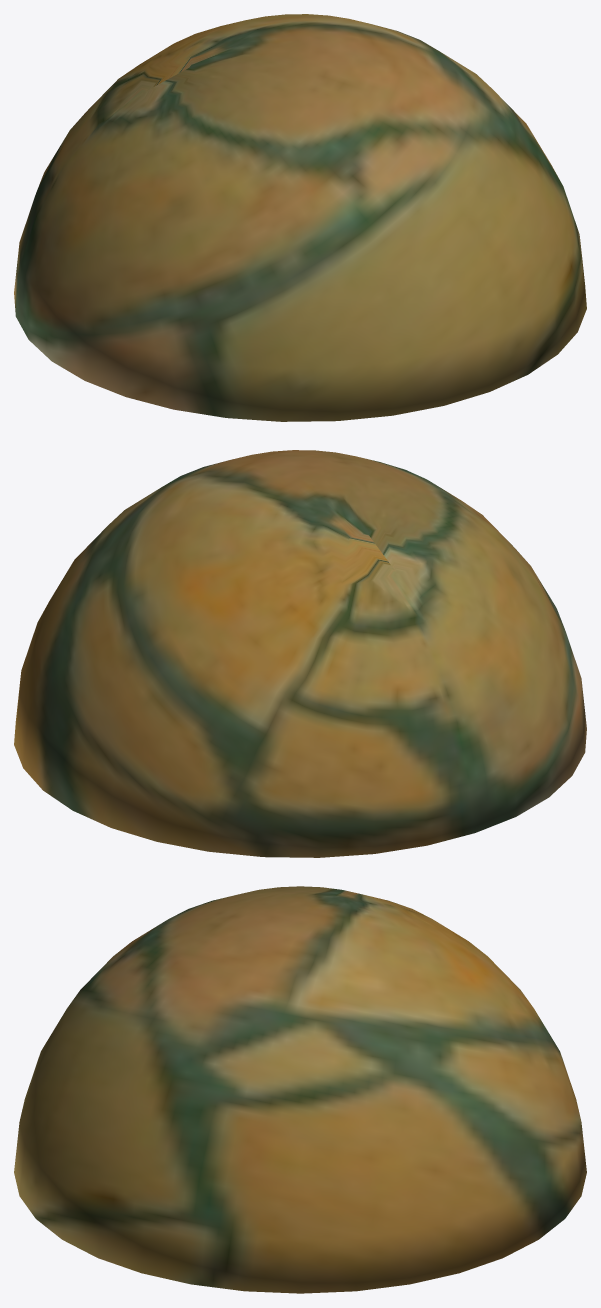
File: sphere_smooth.obj
3 views of the same model, one above another, from view 1: azimuth 30°, elevation 25°; view 2: azimuth 150°, elevation 25°; view 3: azimuth 270°, elevation 25° (orthographic).
Parts seen in each view (by area): view 1: Sphere; view 2: Sphere; view 3: Sphere.
Part boxes in pixels (box(x1,y1,x2,y2)): Sphere: box(14, 14, 586, 421); Sphere: box(14, 450, 586, 857); Sphere: box(14, 886, 586, 1293).
Bounding box in the file's own units: 2 × 1 × 2.
Materials: 1 (1 with a texture image).
